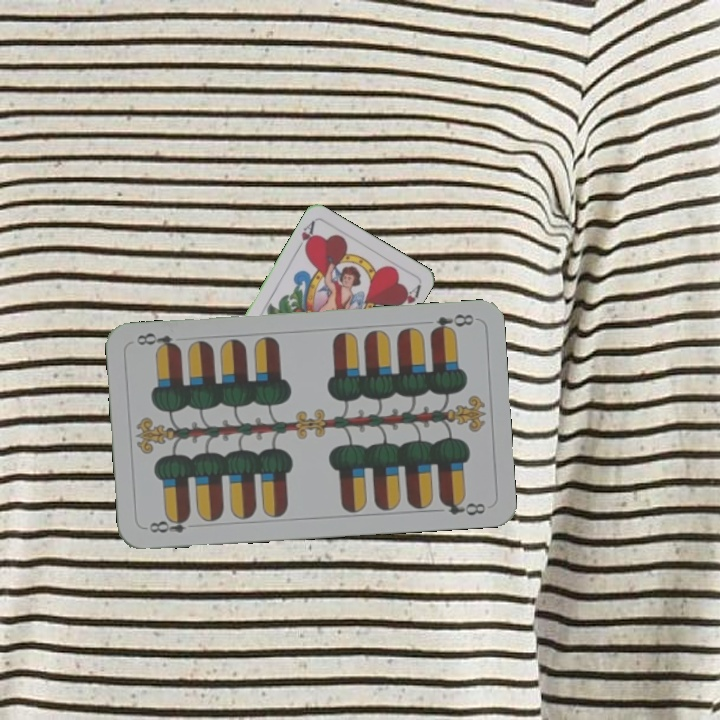E8: (426, 309, 476, 337), (145, 512, 192, 536)
HA: (292, 217, 318, 255)
